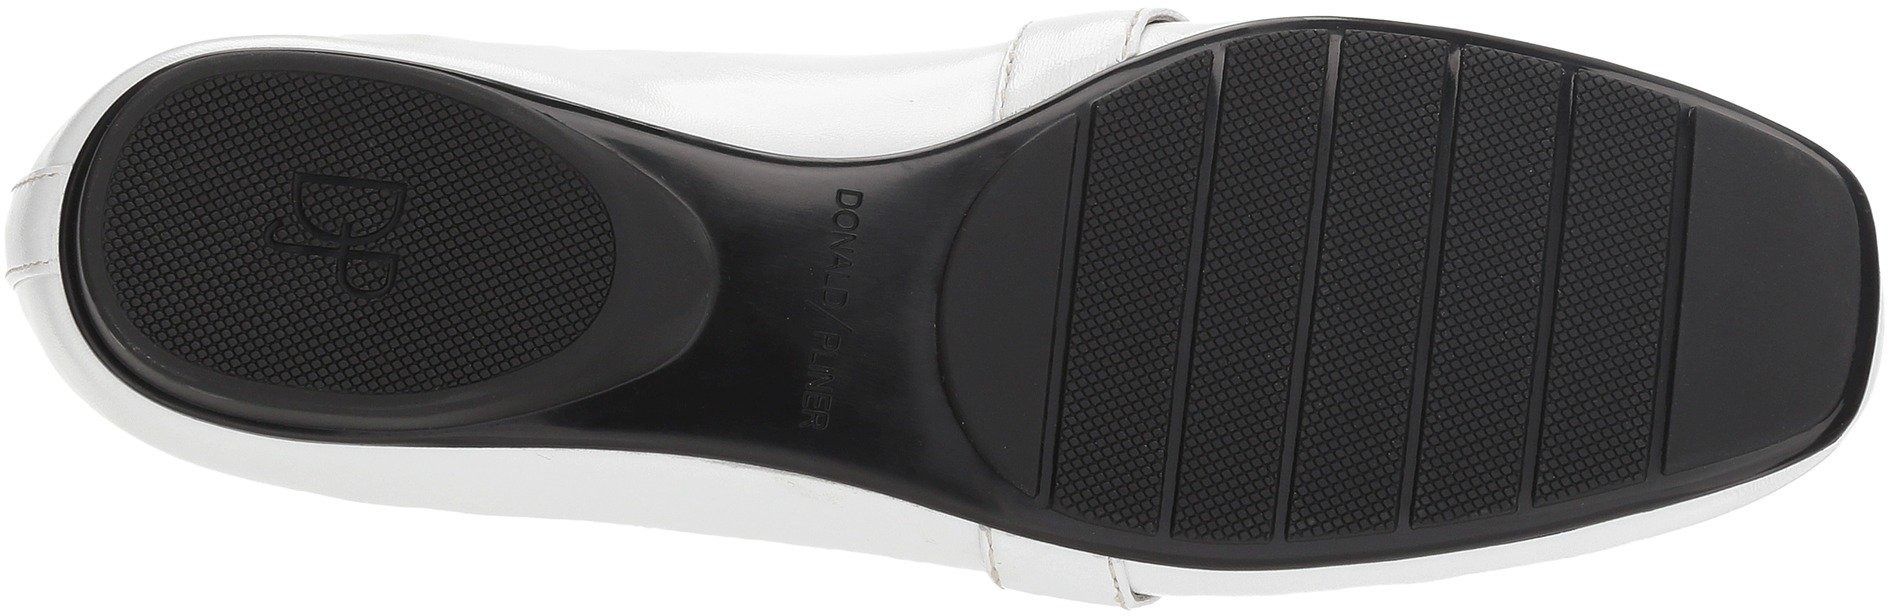exclude: (480, 59, 1046, 565)
other: (111, 168, 262, 332)
quad: (1085, 100, 1402, 430), (1414, 115, 1672, 372)
text: (273, 150, 420, 315)
